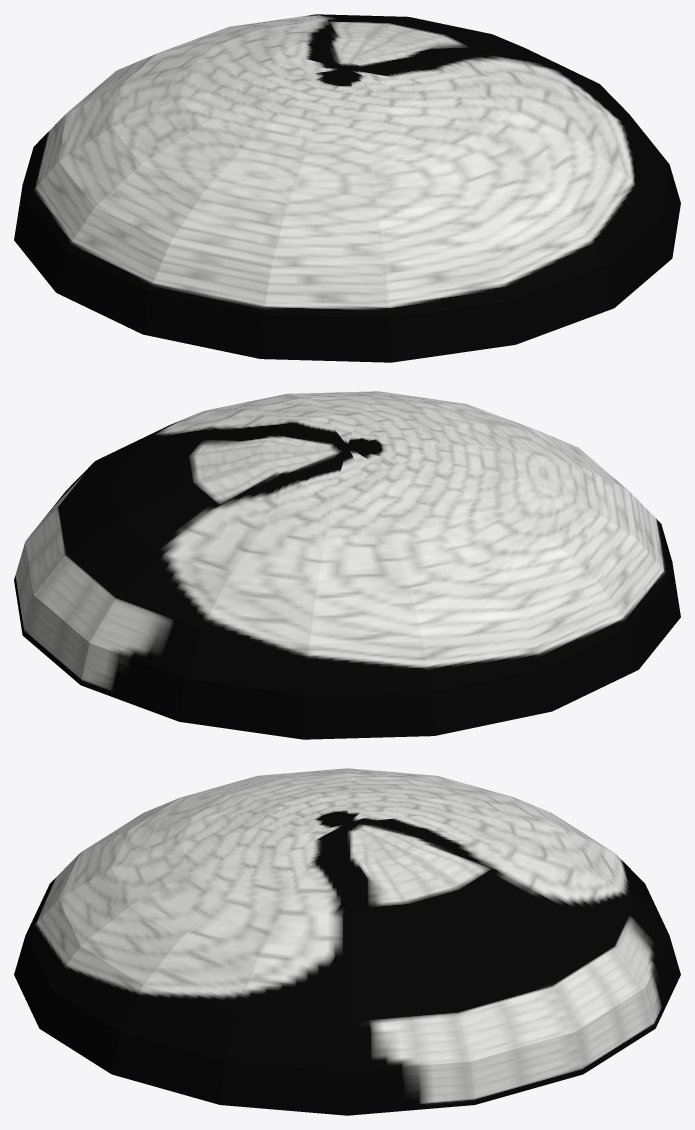
The model's file is iglooRoof.obj.
The picture shows the model from 3 angles, top to bottom: view 1: azimuth 30°, elevation 25°; view 2: azimuth 150°, elevation 25°; view 3: azimuth 270°, elevation 25°; orthographic projection.
Visible parts, largest first — view 1: iglooRoof; view 2: iglooRoof; view 3: iglooRoof.
Boxes of the visible parts, <box> form: iglooRoof: <box>14,14,680,362</box>; iglooRoof: <box>14,391,680,739</box>; iglooRoof: <box>14,768,680,1115</box>.
Bounding box in the file's own units: 4 × 1 × 4.
Materials: 1 (1 with a texture image).
